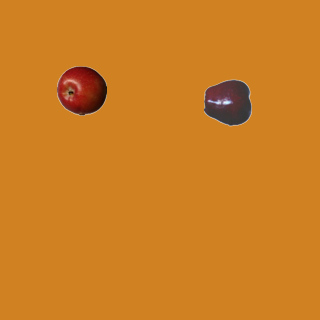Apple Braeburn: (56, 65, 106, 115)
Apple Red Delicious: (203, 77, 253, 127)
